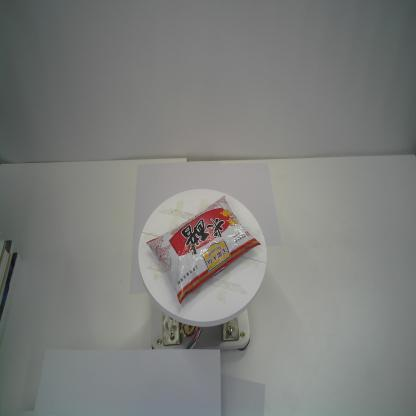Seasoner: (144, 192, 262, 306)
